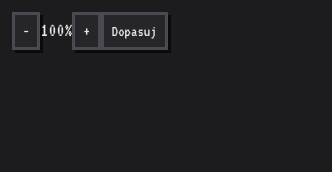
it: ZoomControls › shows the zoom in percent and changes it with the buttons
The image size is (332, 172).
Expected: the text "100%" is shown, [40,20,72,40]
Click the button named "Przybliż" at point(87, 31), box [72,12,101,50]
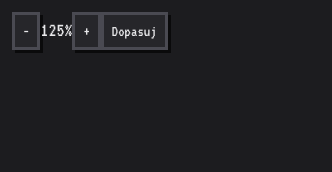
Result: the text "125%" is shown at [40,20,72,40]
Click the button "Dopasuj" at point(134, 31), box [101,12,168,50]
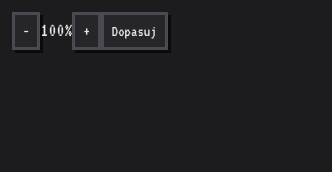
Result: the text "100%" is shown at [40,20,72,40]
